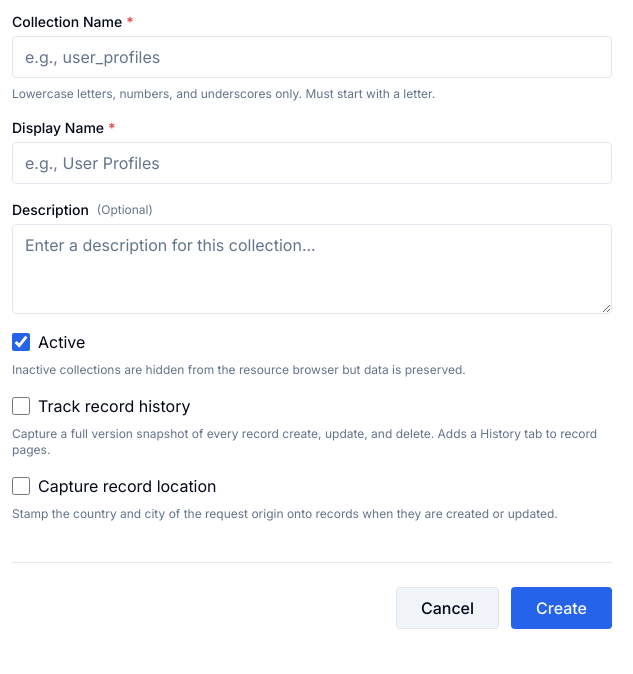
it: CollectionForm Component › Validation - Display Name Field › should show error when display name is empty
Click the field with test id "collection-display-name-input": (312, 163) top-left (12, 142), bottom-right (612, 184)
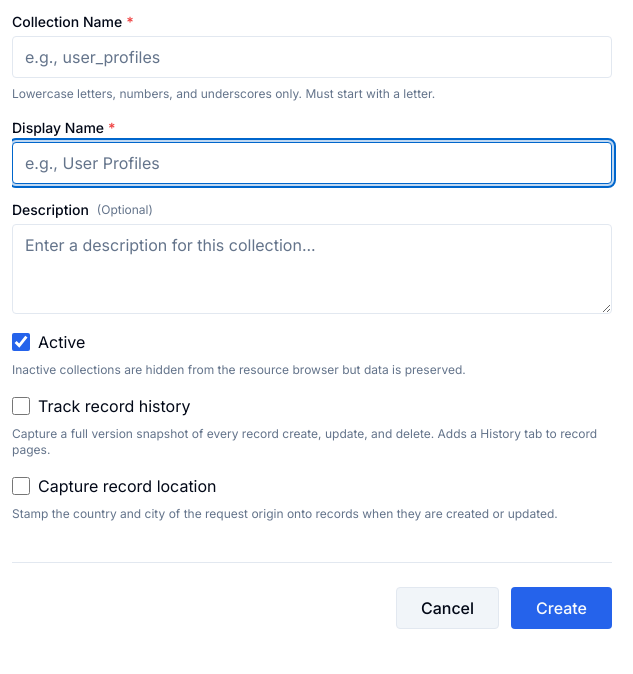
Press Tab
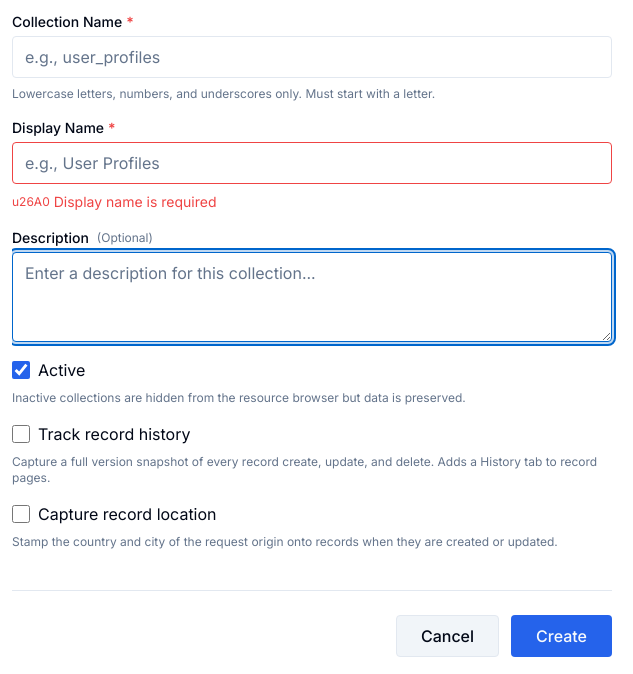
Expected: the message "Display name is required" is shown, top-left (54, 193), bottom-right (216, 210)
